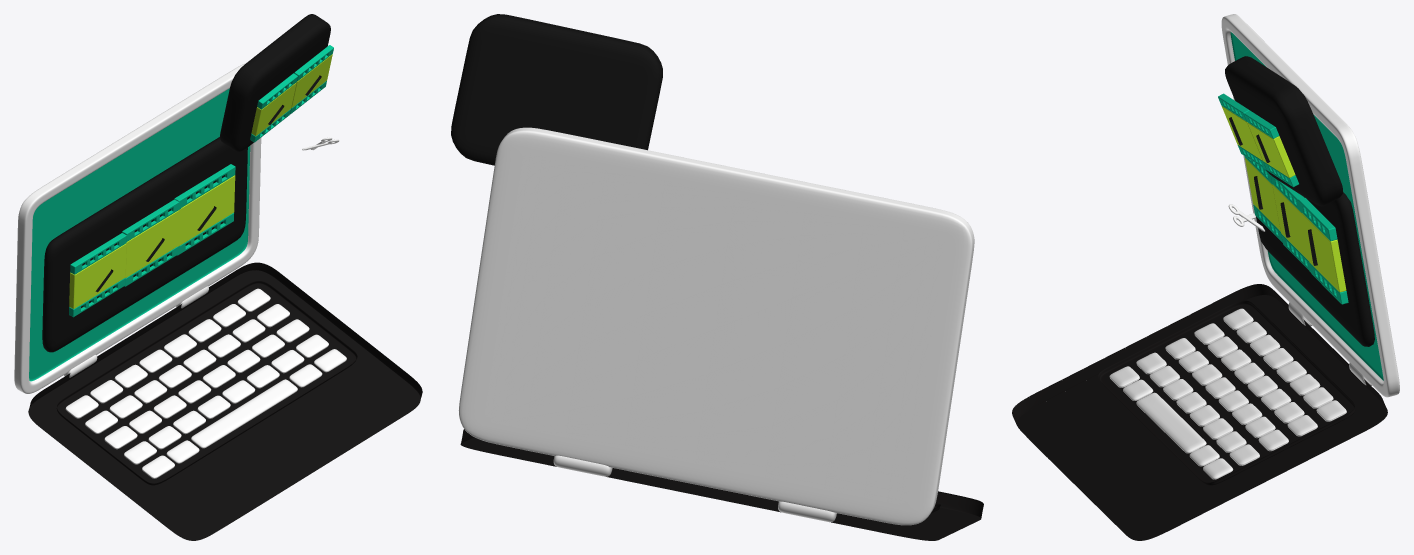
Rendered from video-editing-software-3d-animated-icon-1020991971133.glb.
3 views of the same model, side by side, from view 1: azimuth 30°, elevation 25°; view 2: azimuth 150°, elevation 25°; view 3: azimuth 270°, elevation 25° (orthographic). The views are drawn at different scales.
Parts seen in each view (by area): view 1: Plane.098, Plane.099, Plane.101, Plane.103, Plane.097, Plane.093, Cube.040, Plane.100, Plane.133, Plane.130, Plane.127, Plane.134 (+6 smaller); view 2: Plane.093, Cube.040, Plane.098, Cylinder.145, Plane.100; view 3: Plane.098, Plane.099, Plane.097, Plane.093, Cube.040, Plane.103, Plane.100, Plane.101, Plane.133, Plane.134, Plane.127, Plane.130 (+5 smaller).
Part boxes in pixels (x1,y1,x2,y2): Plane.098: (28, 262, 421, 540); Plane.099: (65, 288, 346, 478); Plane.101: (29, 88, 250, 381); Plane.103: (42, 137, 247, 352); Plane.097: (56, 281, 357, 485); Plane.093: (14, 63, 261, 393); Cube.040: (220, 14, 330, 151); Plane.100: (29, 263, 422, 407); Plane.133: (178, 175, 235, 246); Plane.130: (69, 243, 126, 308); Plane.127: (125, 210, 179, 277); Plane.134: (174, 164, 235, 255); Plane.093: (458, 127, 974, 525); Cube.040: (451, 14, 662, 165); Plane.098: (460, 437, 983, 540); Cylinder.145: (553, 455, 836, 522); Plane.100: (461, 429, 983, 517); Plane.098: (1012, 284, 1387, 540); Plane.099: (1109, 308, 1346, 479); Plane.097: (1098, 300, 1355, 485); Plane.093: (1221, 14, 1399, 397); Cube.040: (1225, 56, 1342, 206); Plane.103: (1256, 192, 1374, 346); Plane.100: (1012, 284, 1385, 523); Plane.101: (1230, 32, 1383, 380); Plane.133: (1300, 212, 1346, 292); Plane.134: (1298, 197, 1348, 304); Plane.127: (1272, 184, 1308, 260); Plane.130: (1245, 158, 1280, 231).
Bounding box in the file's own units: 5.26 × 5.3 × 3.97.
